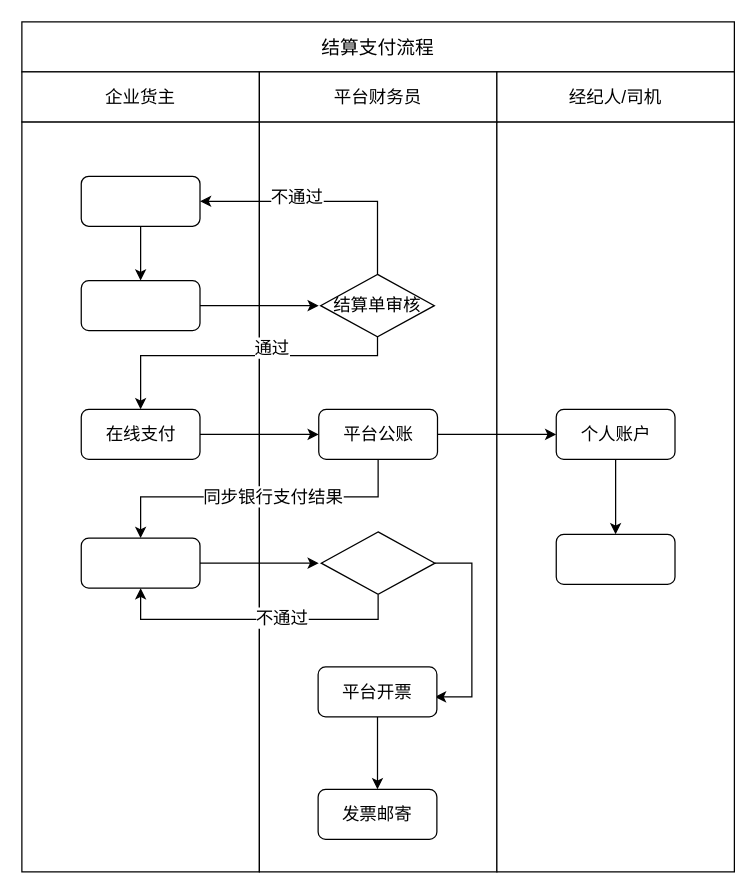
Image size: 756x894. Some labels were removed from this diagram. The box of each missing label's shape, as (x1, y1, x2, y2) in pixels:
信息审核: (320, 531, 435, 594)
提现: (555, 533, 675, 584)
申请开票: (80, 537, 200, 588)
结算单: (80, 279, 200, 331)
运单: (80, 175, 200, 226)
